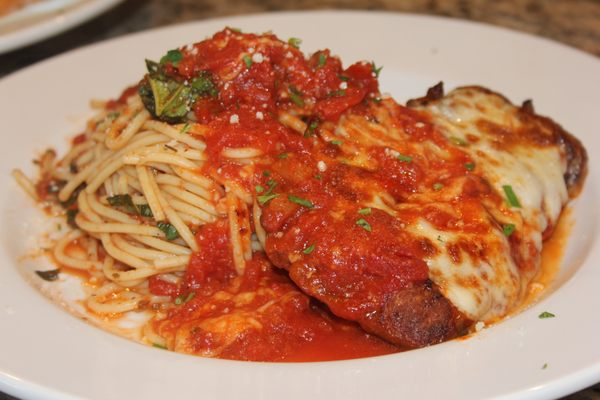sandwich: (6, 23, 587, 367)
